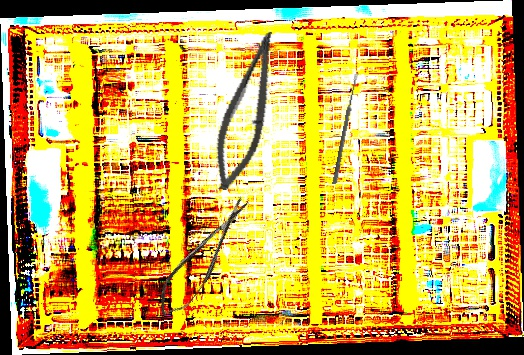Micro Scissor: (148, 191, 261, 324), (205, 25, 285, 196)
Surgical Spoon: (332, 72, 359, 185)
